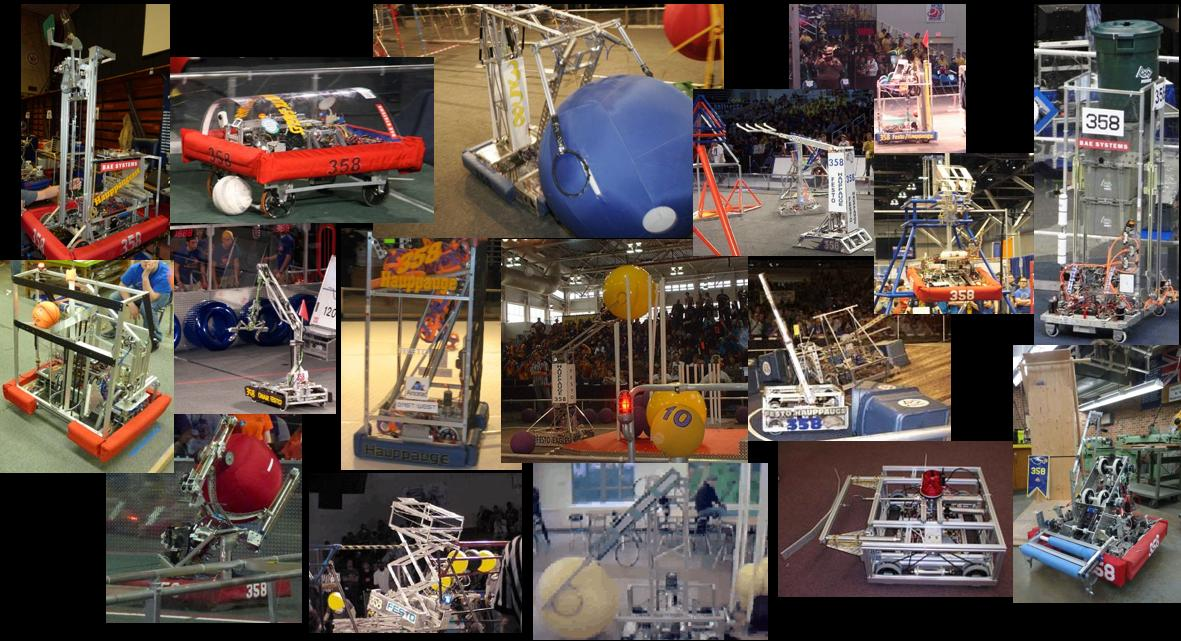robot: (443, 0, 667, 238), (12, 8, 169, 261), (345, 230, 490, 471), (6, 266, 172, 462), (179, 84, 428, 214), (136, 416, 295, 608), (1019, 405, 1175, 594), (902, 162, 1008, 308)
